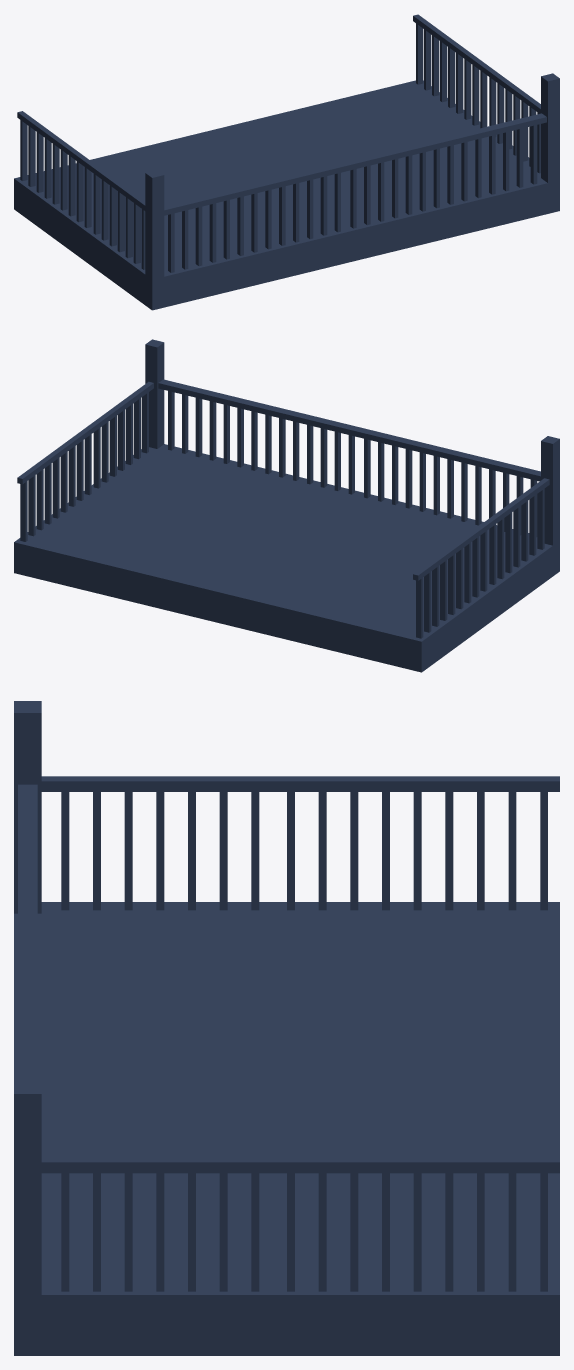
The model's file is balcony1_lightBlue.obj.
The picture shows the model from 3 angles, top to bottom: view 1: azimuth 30°, elevation 25°; view 2: azimuth 150°, elevation 25°; view 3: azimuth 270°, elevation 25°; orthographic projection. The views are drawn at different scales.
Size of the model in its own units: 23.5 by 7.3 by 13.8.
Materials: 1 (1 with a texture image).
